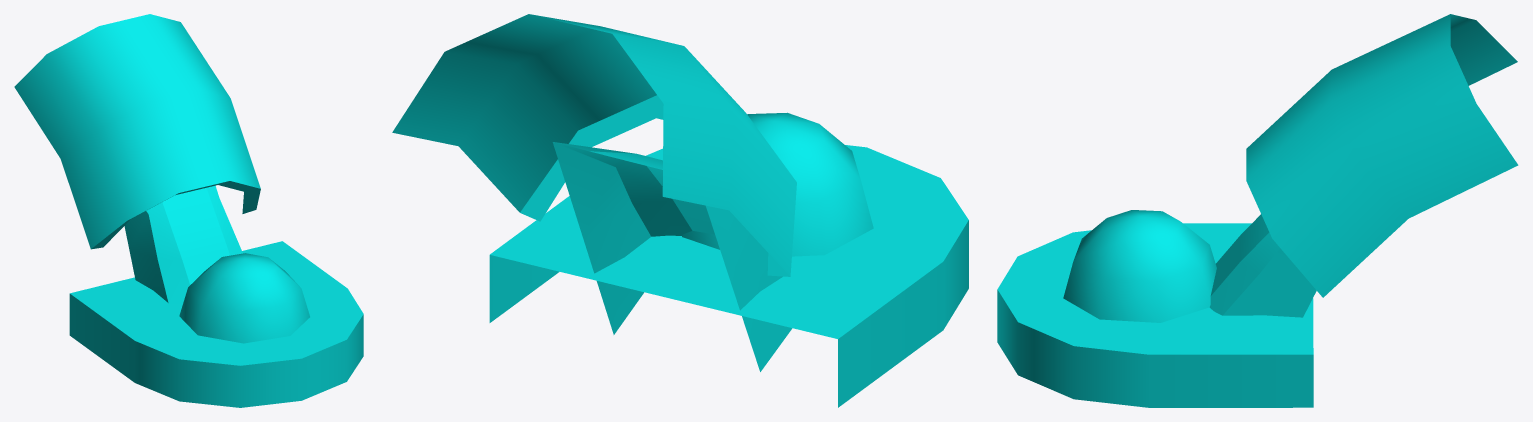
The model's file is build_prop_Strut_01.fbx.
3 renders of one model, left to right at view 1: azimuth 30°, elevation 25°; view 2: azimuth 150°, elevation 25°; view 3: azimuth 270°, elevation 25°, orthographic. The views are drawn at different scales.
Visible parts, largest first — view 1: build_prop_Strut_01; view 2: build_prop_Strut_01; view 3: build_prop_Strut_01.
Part boxes in pixels (x1,y1,x2,y2): build_prop_Strut_01: (14, 14, 363, 407); build_prop_Strut_01: (392, 14, 968, 407); build_prop_Strut_01: (997, 14, 1518, 407).
Size of the model in its own units: 40.18 by 45.52 by 67.3.
